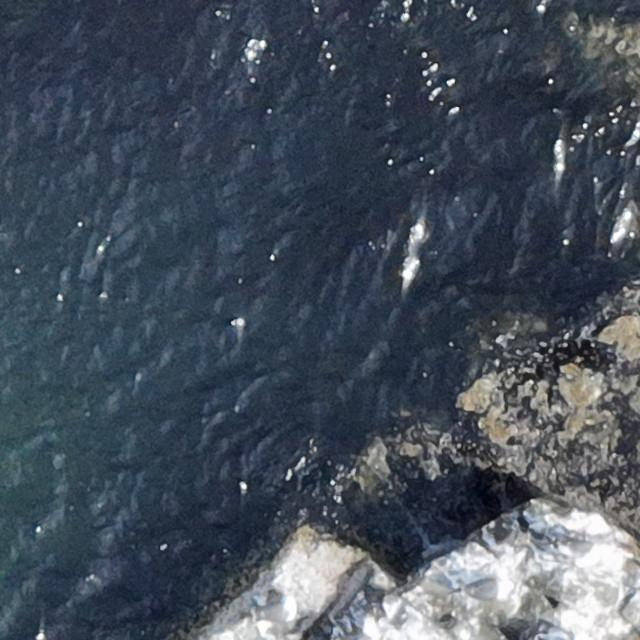umineko: (258, 592, 298, 625), (462, 578, 512, 601)
